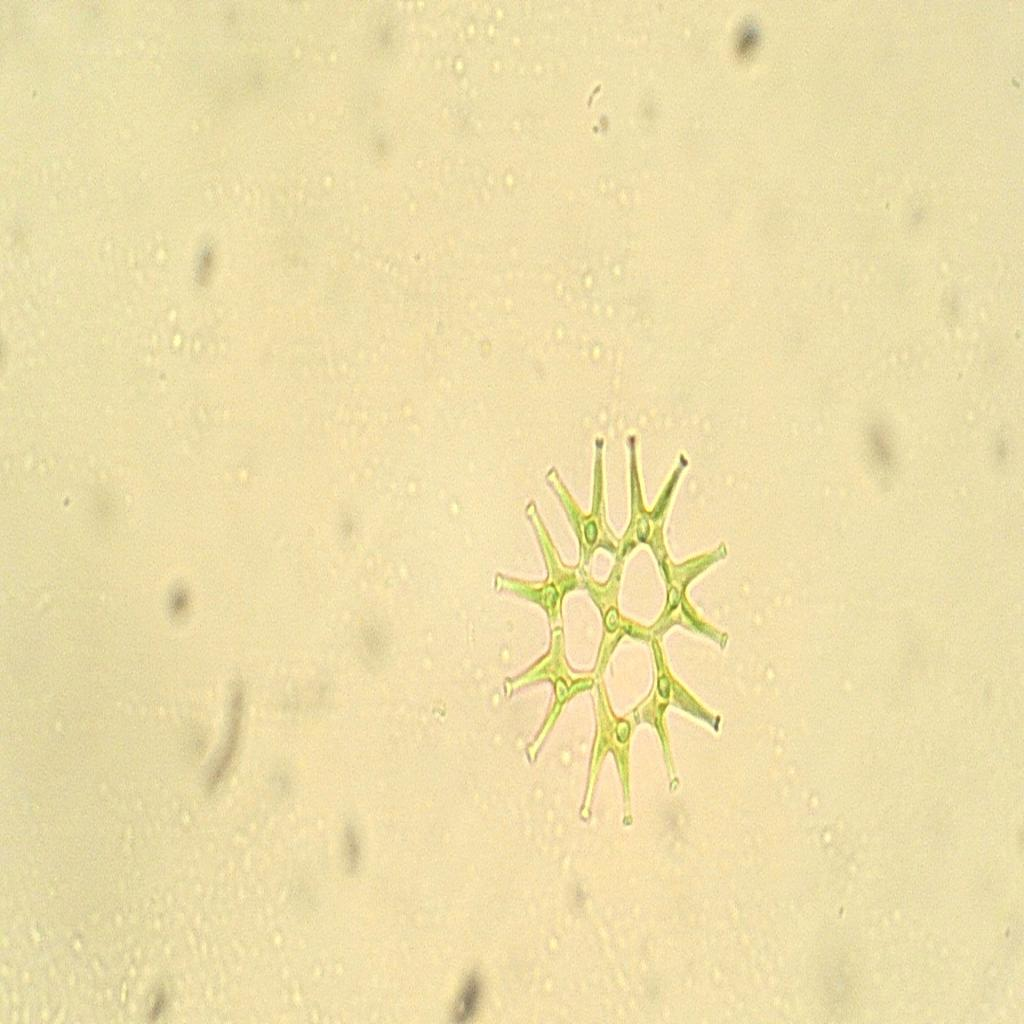Pediastrum_75T: (470, 400, 753, 860)
